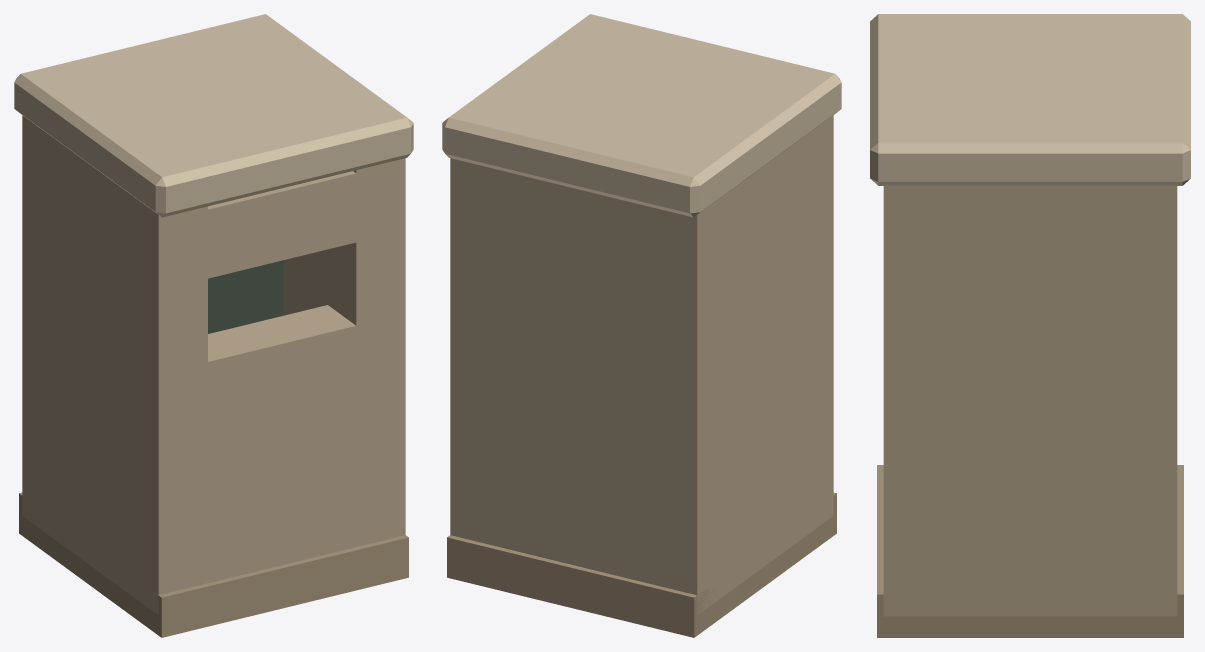
The model's file is alc_bin.glb.
The picture shows the model from 3 angles, left to right: view 1: azimuth 30°, elevation 25°; view 2: azimuth 150°, elevation 25°; view 3: azimuth 270°, elevation 25°; orthographic projection. The views are drawn at different scales.
Visible parts, largest first — view 1: alc_bin; view 2: alc_bin; view 3: alc_bin.
Boxes of the visible parts, x1,y1,x2,y2 form: alc_bin: [14, 14, 413, 637]; alc_bin: [442, 14, 841, 637]; alc_bin: [870, 14, 1190, 637].
Bounding box in the file's own units: 0.47 × 0.8 × 0.47.
